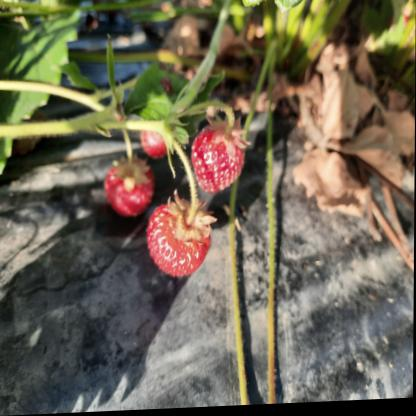ripe: (149, 200, 209, 277), (192, 133, 244, 190), (103, 159, 153, 216)
